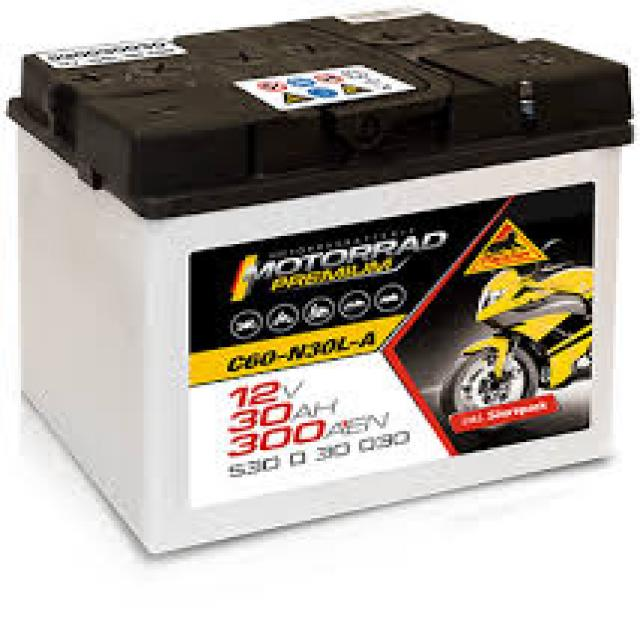non-organic waste: (9, 10, 636, 558)
